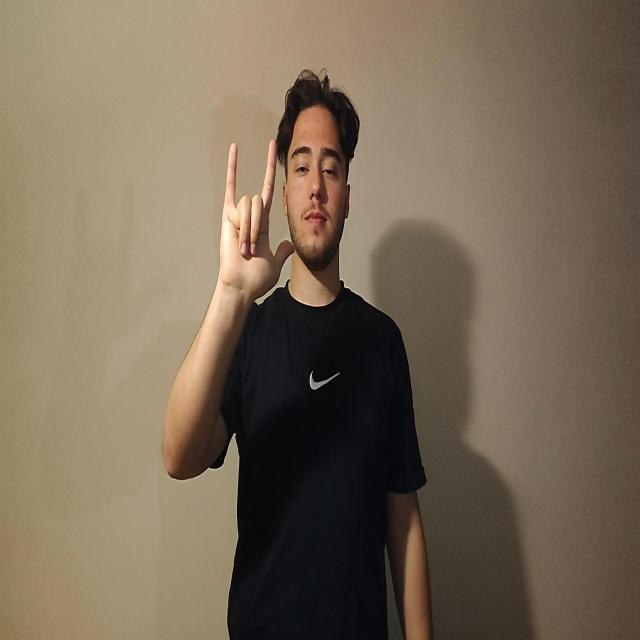iloveyou: (218, 138, 295, 304)
